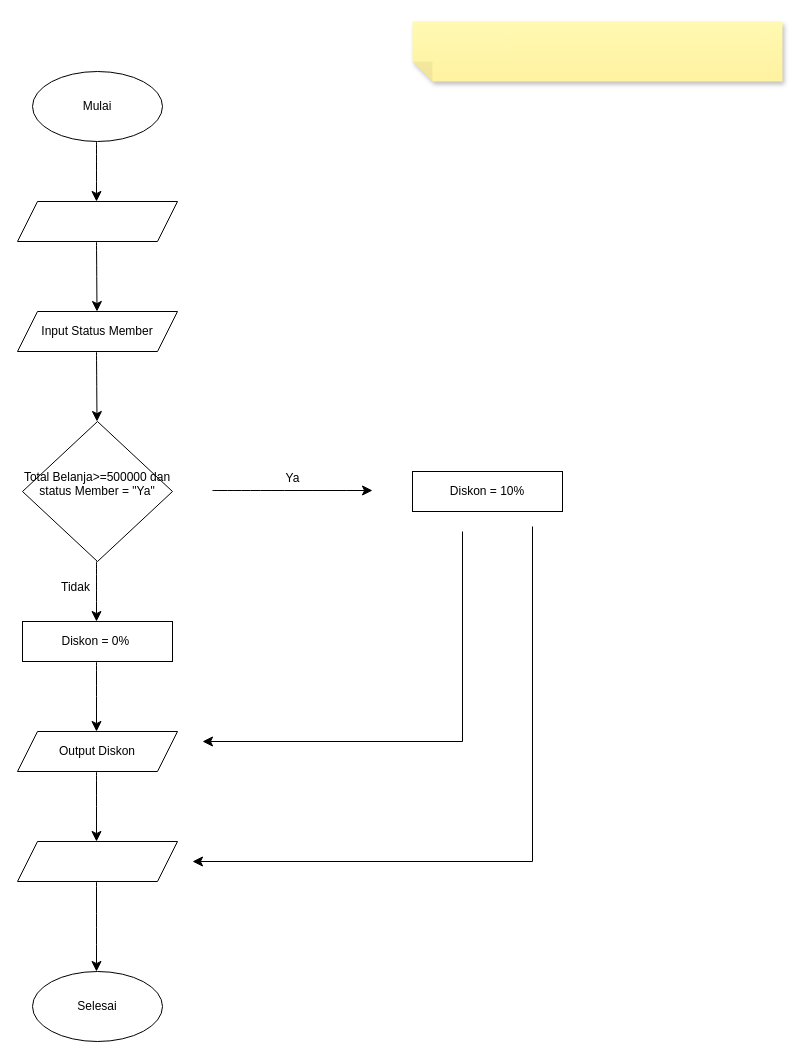
This 806x1059 diagram has some shape labels left out. Here are the shapes that lost their labels. From the top down, the centre of each, then its label:
[598,52]: Surya Vildhani 202613010018
[97,221]: Input Total Belanja
[97,861]: Output Total BIaya
